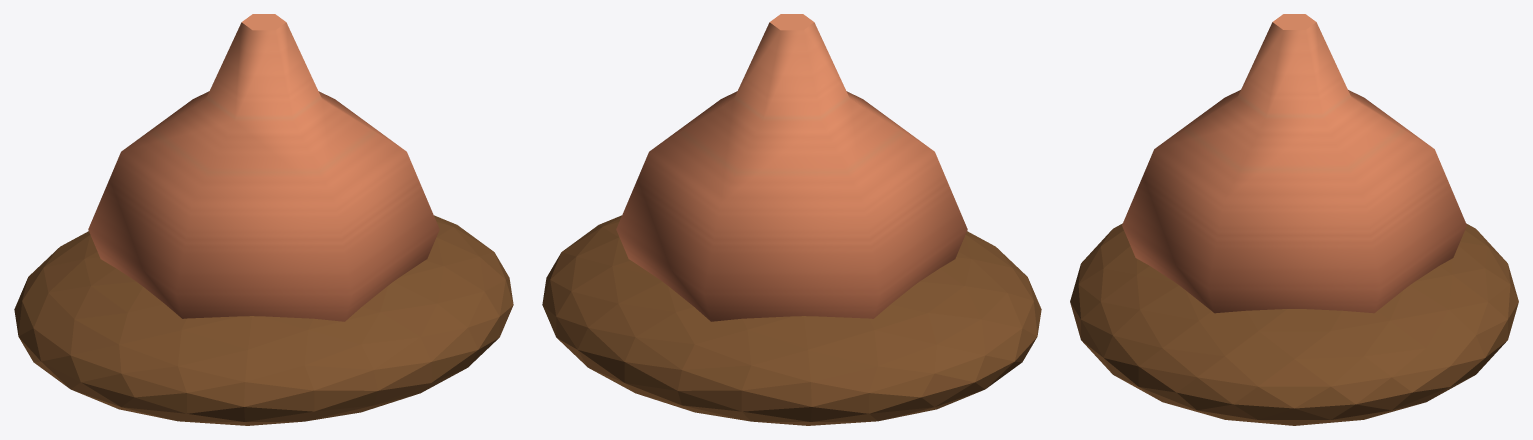
Rendered from cebolla_listo.glb.
3 views of the same model, side by side, from view 1: azimuth 30°, elevation 25°; view 2: azimuth 150°, elevation 25°; view 3: azimuth 270°, elevation 25° (orthographic).
Parts seen in each view (by area): view 1: onion, dirt; view 2: onion, dirt; view 3: onion, dirt.
Part boxes in pixels (box(x1,y1,x2,y2)): onion: box(88, 14, 439, 321); dirt: box(14, 215, 513, 425); onion: box(616, 14, 967, 321); dirt: box(542, 215, 1041, 425); onion: box(1122, 14, 1466, 313); dirt: box(1070, 223, 1518, 425).
Size of the model in its own units: 0.36 by 0.27 by 0.32.
Materials: 2 (1 with a texture image).
